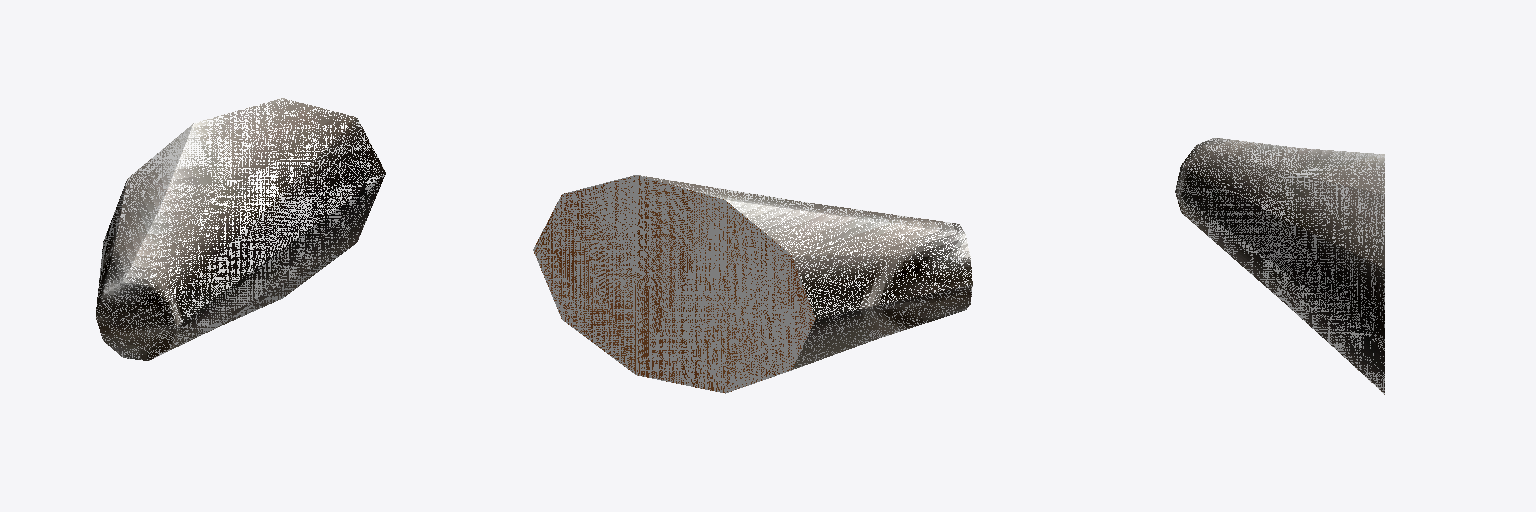
3 renders of one model, left to right at view 1: azimuth 30°, elevation 25°; view 2: azimuth 150°, elevation 25°; view 3: azimuth 270°, elevation 25°, orthographic.
Visible parts, largest first — view 1: mesh26/mesh26-geometry#mesh26-geometry; view 2: mesh26/mesh26-geometry#mesh26-geometry; view 3: mesh26/mesh26-geometry#mesh26-geometry.
Boxes of the visible parts, x1=… form: mesh26/mesh26-geometry#mesh26-geometry: x1=96, y1=98, x2=385, y2=360; mesh26/mesh26-geometry#mesh26-geometry: x1=533, y1=175, x2=972, y2=393; mesh26/mesh26-geometry#mesh26-geometry: x1=1175, y1=138, x2=1384, y2=394.
Bounding box in the file's own units: 0.0394 × 0.0207 × 0.0196.
3 materials, 2 textured.